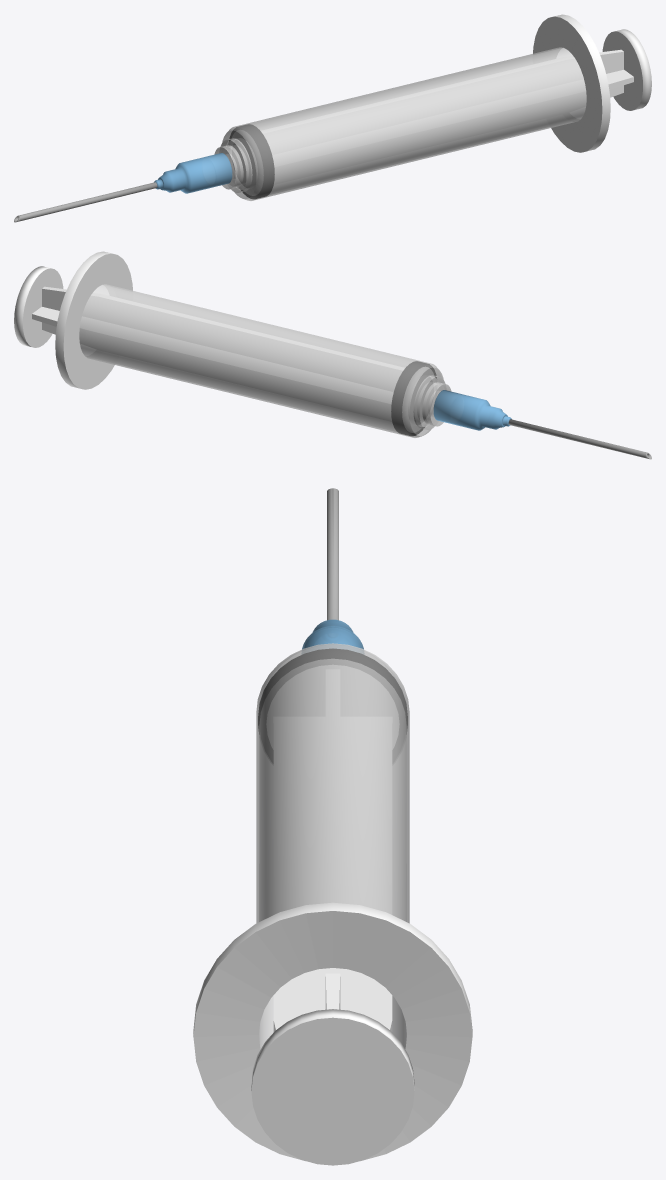
The model's file is sringe.fbx.
The picture shows the model from 3 angles, top to bottom: view 1: azimuth 30°, elevation 25°; view 2: azimuth 150°, elevation 25°; view 3: azimuth 270°, elevation 25°; orthographic projection. The views are drawn at different scales.
Parts seen in each view (by area): view 1: Cylinder, Circle, Cylinder.001, Cylinder.002; view 2: Cylinder, Circle, Cylinder.001, Cylinder.002; view 3: Cylinder, Circle, Cylinder.002, Cylinder.001.
Part boxes in pixels (bbox=[...]): Cylinder: bbox=[214, 14, 610, 200]; Circle: bbox=[229, 29, 651, 198]; Cylinder.001: bbox=[154, 153, 232, 193]; Cylinder.002: bbox=[14, 182, 157, 222]; Cylinder: bbox=[55, 251, 451, 437]; Circle: bbox=[14, 266, 436, 435]; Cylinder.001: bbox=[433, 390, 511, 430]; Cylinder.002: bbox=[508, 419, 651, 459]; Cylinder: bbox=[193, 643, 472, 1161]; Circle: bbox=[251, 648, 414, 1165]; Cylinder.002: bbox=[327, 488, 338, 620]; Cylinder.001: bbox=[302, 619, 363, 649].
Bounding box in the file's own units: 871 × 171 × 171.
